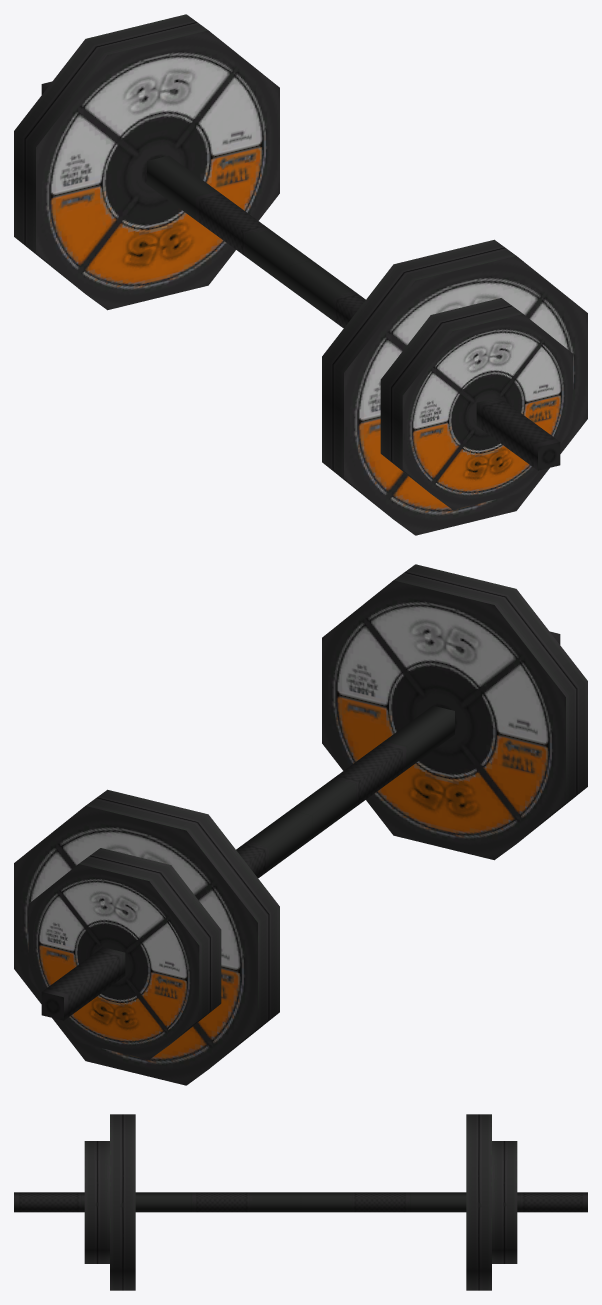
The model's file is weights_large_lod1.glb.
3 renders of one model, top to bottom at view 1: azimuth 30°, elevation 25°; view 2: azimuth 150°, elevation 25°; view 3: azimuth 270°, elevation 25°, orthographic. The views are drawn at different scales.
Visible parts, largest first — view 1: surf0, surf1; view 2: surf0, surf1; view 3: surf0, surf1.
Part boxes in pixels (x1,y1,x2,y2): surf0: (14, 14, 587, 535); surf1: (41, 81, 560, 470); surf0: (14, 564, 587, 1085); surf1: (41, 631, 560, 1020); surf0: (84, 1114, 517, 1290); surf1: (14, 1192, 587, 1212).
Size of the model in its own units: 19.21 by 19.21 by 67.73.
